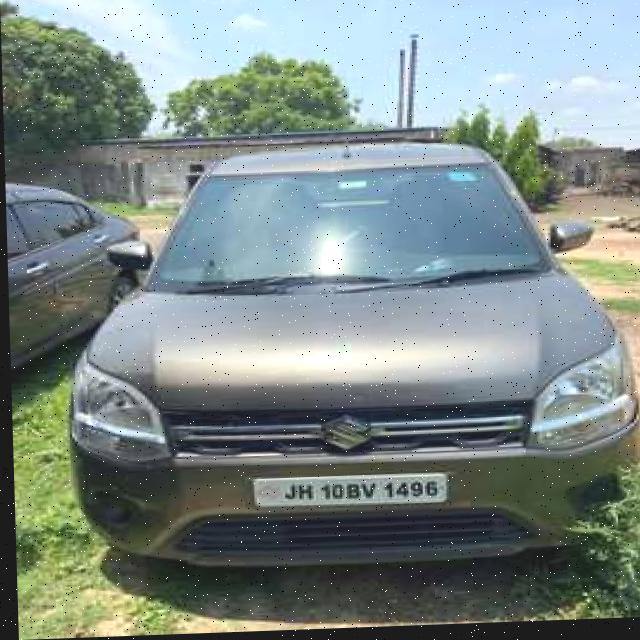plate: (250, 474, 444, 514)
